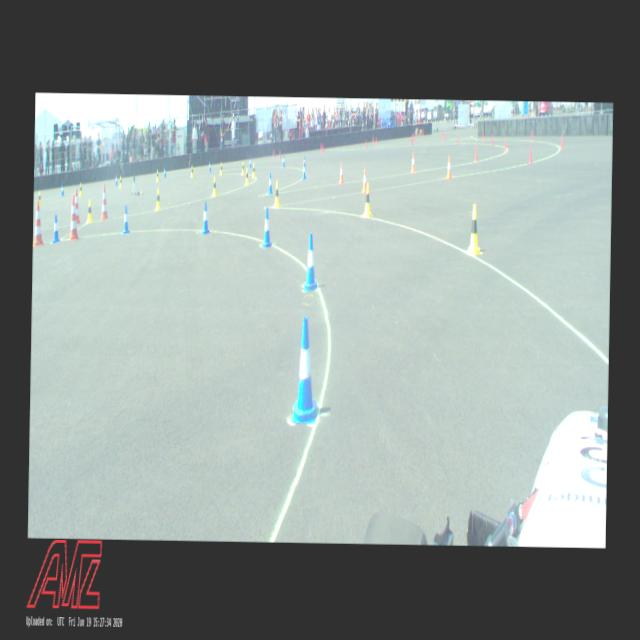blue_cone: (290, 316, 320, 423), (303, 232, 318, 290), (260, 207, 272, 248), (202, 200, 210, 234), (51, 213, 60, 243), (122, 204, 129, 233), (268, 172, 272, 194), (302, 162, 306, 180), (60, 182, 64, 195), (248, 155, 252, 167), (282, 154, 285, 167), (163, 166, 166, 178), (208, 160, 211, 172), (115, 173, 117, 184)
large_orange_cone: (68, 194, 80, 239), (33, 200, 44, 244), (100, 183, 108, 219), (74, 186, 81, 222)
orange_cone: (446, 154, 452, 178), (361, 166, 366, 192), (338, 162, 344, 183), (410, 152, 416, 172)
unknown_cone: (528, 143, 532, 163), (474, 145, 478, 162), (530, 128, 533, 142), (560, 131, 562, 149), (456, 133, 459, 144), (504, 136, 506, 152), (490, 132, 492, 146), (365, 138, 367, 150), (319, 142, 322, 150), (482, 130, 484, 140), (374, 136, 376, 146), (279, 150, 281, 160), (372, 135, 374, 144), (322, 144, 324, 153), (272, 148, 274, 157)
yellow_cone: (466, 202, 481, 255), (362, 182, 371, 216), (272, 180, 280, 207), (86, 199, 92, 223), (212, 176, 218, 196), (155, 187, 160, 210), (244, 166, 248, 184), (251, 162, 255, 178), (240, 160, 244, 174), (218, 160, 222, 174), (78, 182, 82, 196), (190, 164, 193, 177), (119, 175, 122, 188), (38, 190, 40, 206), (156, 168, 158, 181)
